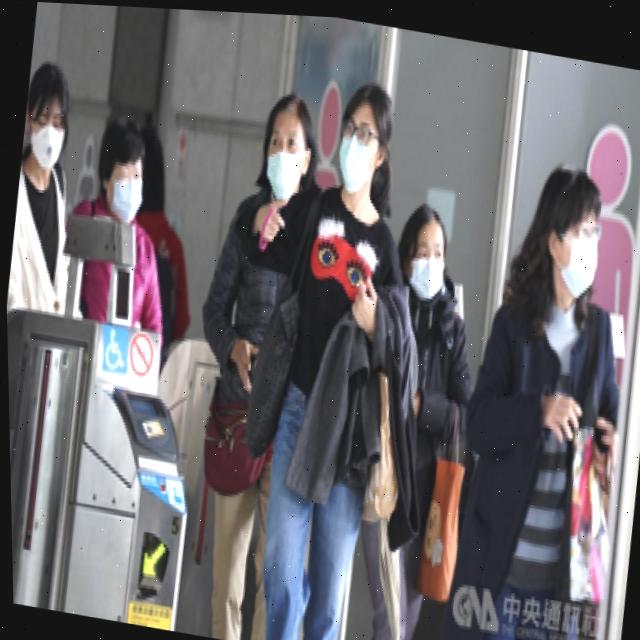Mask: (541, 213, 601, 293), (257, 131, 310, 202), (19, 101, 68, 172), (334, 128, 387, 191), (97, 160, 144, 221), (399, 237, 445, 296)
